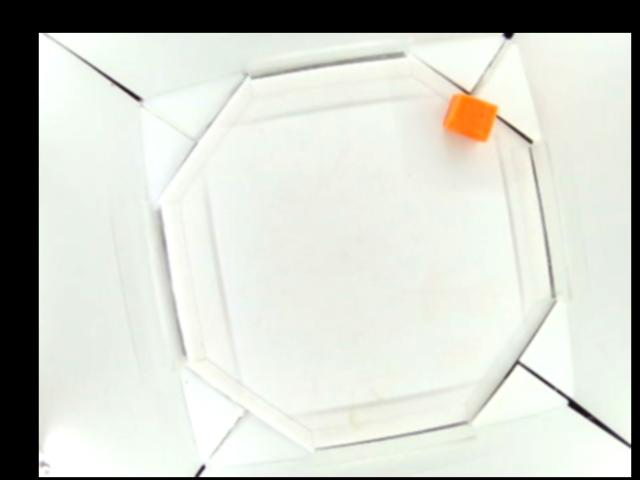Carrot: (445, 92, 498, 142)
